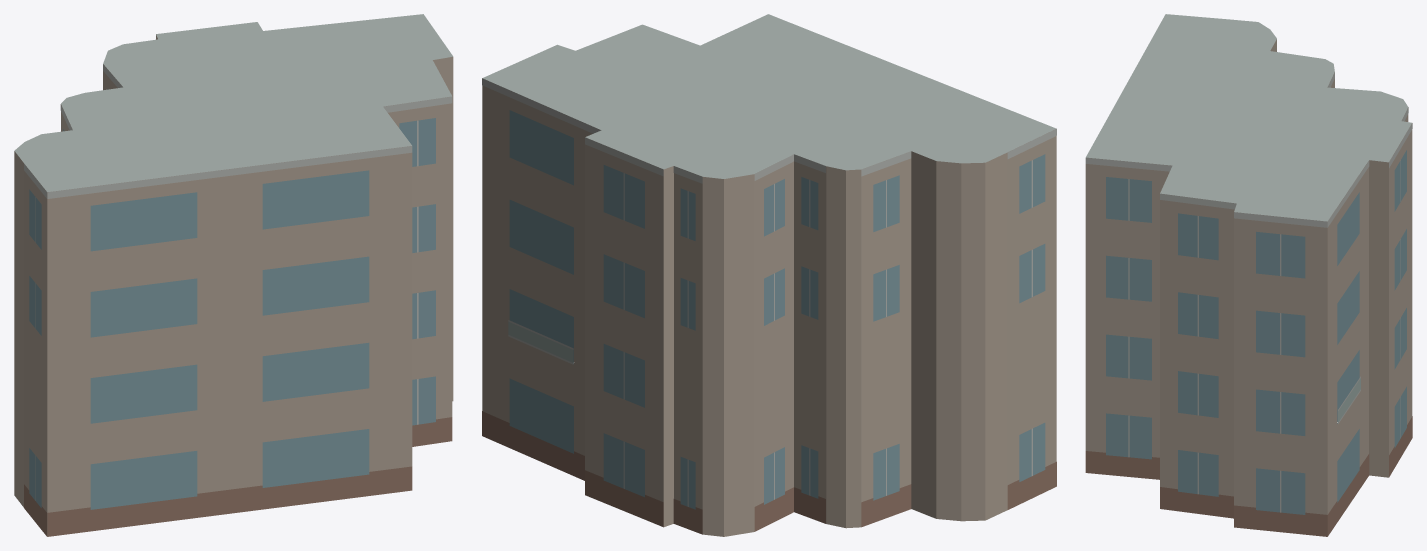
File: survey-upis-32585989.glb
3 renders of one model, left to right at view 1: azimuth 30°, elevation 25°; view 2: azimuth 150°, elevation 25°; view 3: azimuth 270°, elevation 25°, orthographic. The views are drawn at different scales.
Parts seen in each view (by area): view 1: survey-upis-32585989.tmp; view 2: survey-upis-32585989.tmp; view 3: survey-upis-32585989.tmp.
Boxes of the visible parts, x1,y1,x2,y2 form: survey-upis-32585989.tmp: (14, 14, 453, 536); survey-upis-32585989.tmp: (482, 14, 1056, 536); survey-upis-32585989.tmp: (1085, 14, 1412, 536).
Size of the model in its own units: 17.23 by 12.2 by 11.47.
